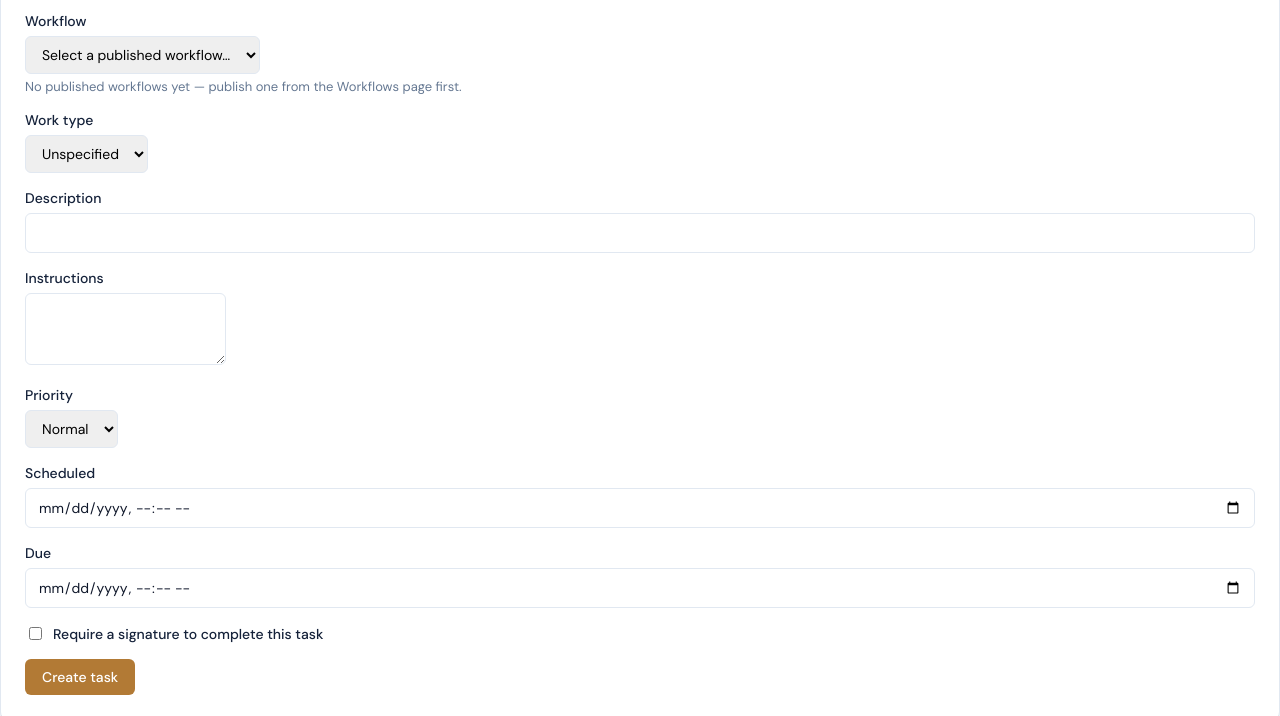
Test: CreateTaskForm › shows validation errors and does not submit when required fields are missing
The image size is (1280, 716).
(page scrolled)
Click the button "Create task".
click(80, 677)  # box left=25, top=659, right=135, bottom=695
(page scrolled)
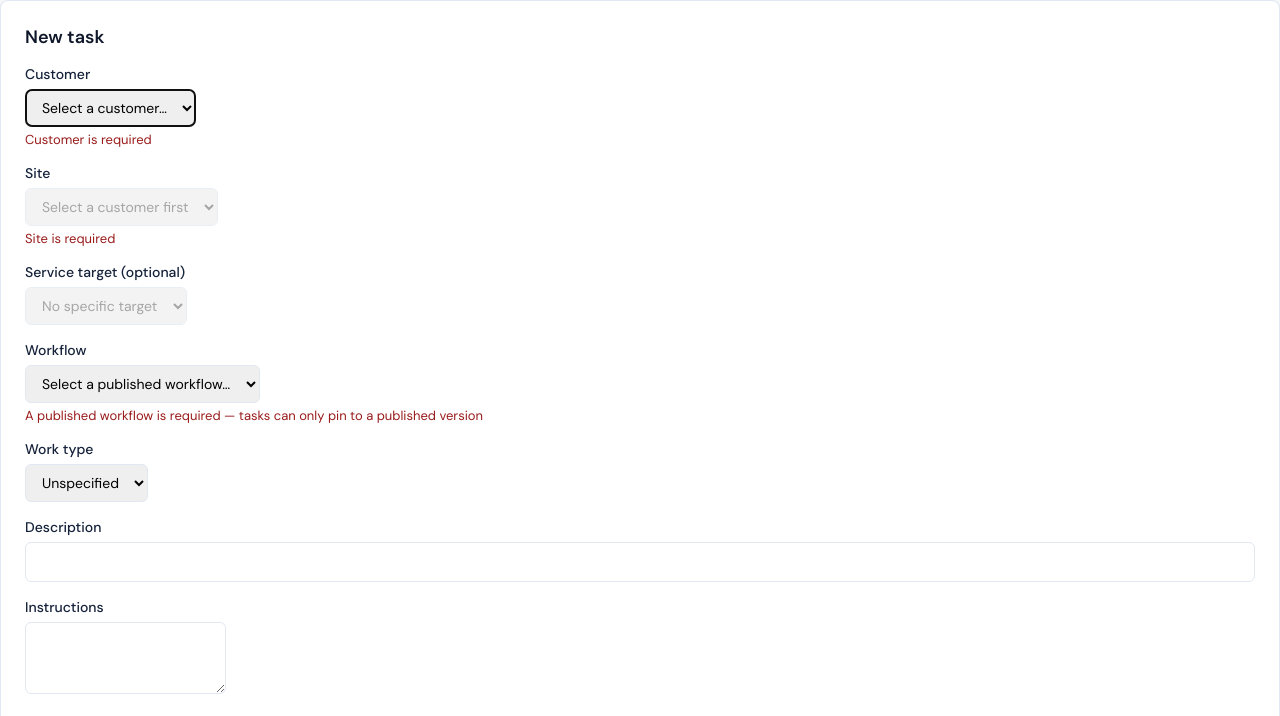
Now the text "Customer is required" is shown, box left=25, top=131, right=152, bottom=148
